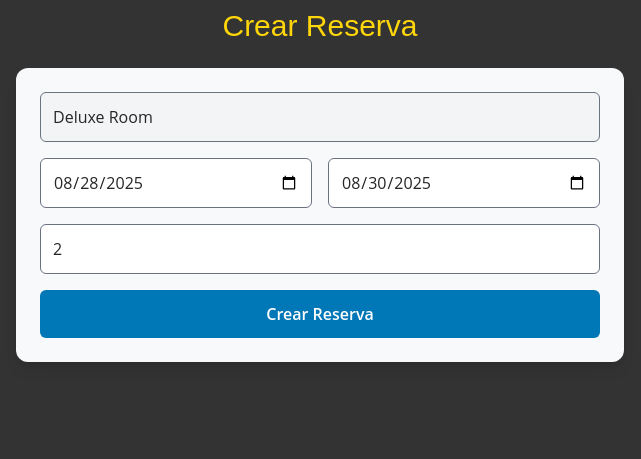
Test case: ReservationPage › 2. shows error when no rooms available
Click the button "Crear Reserva". click: point(320, 314)
box: [40,290,600,338]
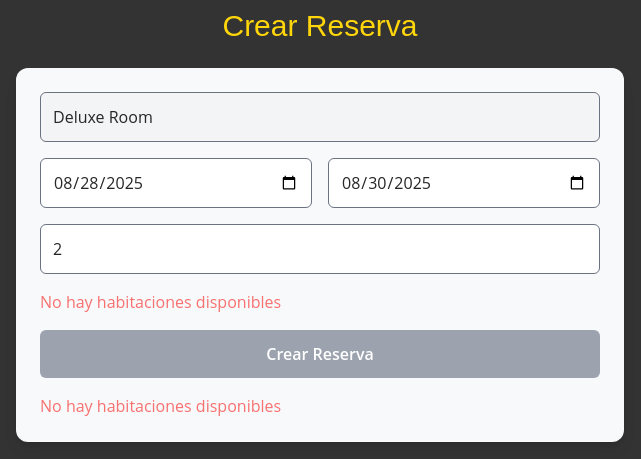
Now the message reads "No hay habitaciones disponibles", box [40,395,281,417]
